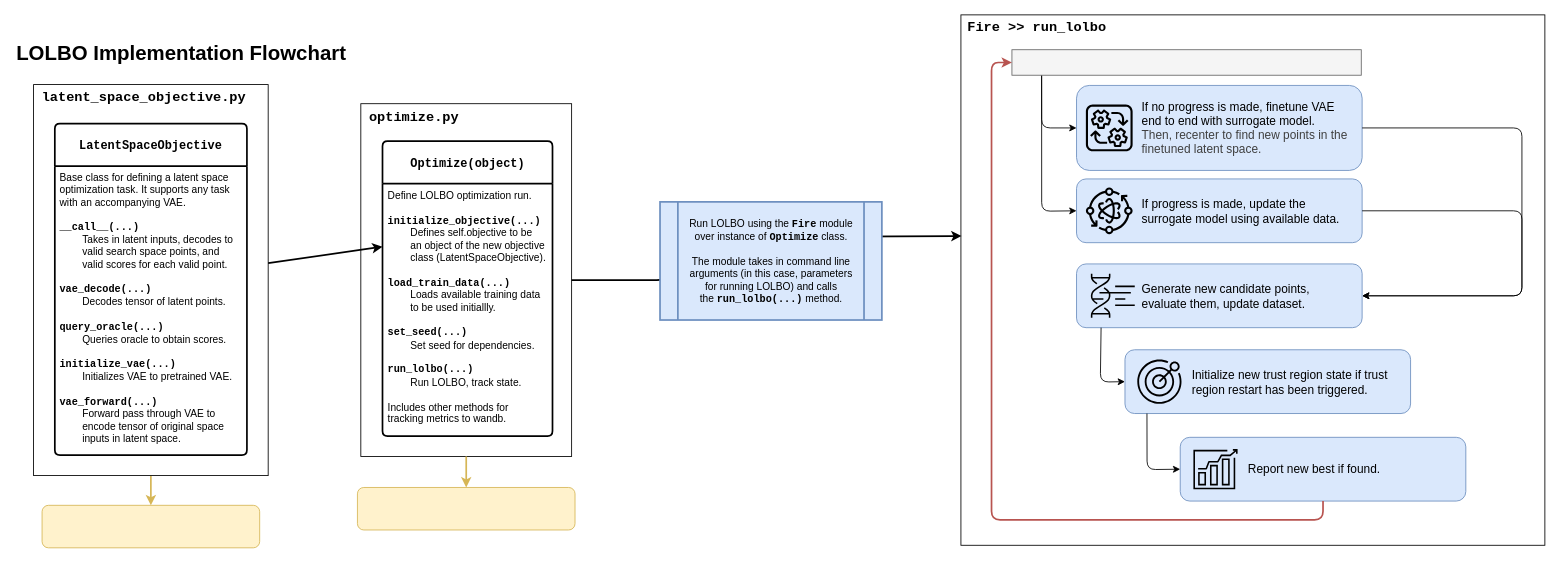
This 1560x563 diagram has some shape labels left out. The shapes that lost their labels are listed below. From the top down, each one's centre as x and y in pixels, then its label:
At point 1186,62: "while evaluation budget is not exhausted:".
At point 150,526: "Example for Molecule Tasks: lolbo/molecule_objective.py".
At point 466,508: "Example for Molecule Tasks: scripts/molecule_optimization.py".
